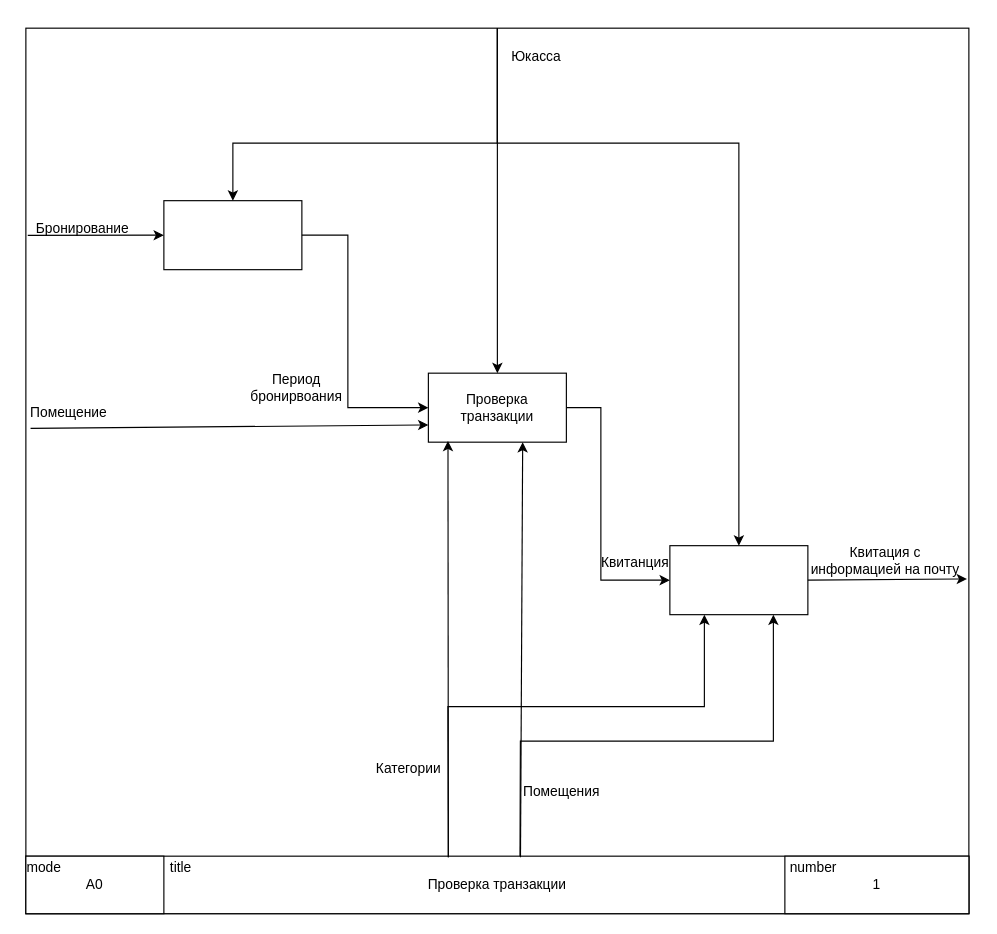
The diagram is 997 pixels wide and 934 high, and some of its shapes have lost their labels. The shapes that lost their labels are listed below. From the top down, each one's centre as x and y in pixels, then its label:
the point at 232,235: Внесение предоплаты
the point at 738,580: Отправка напочту
